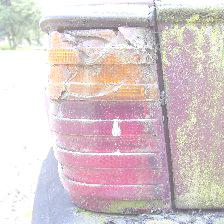tail_lamp: (41, 18, 167, 126)
